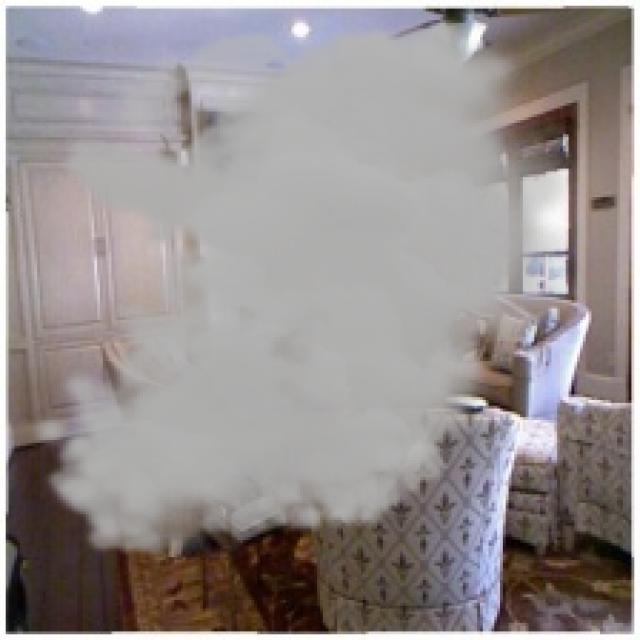smoke: (26, 11, 594, 560)
